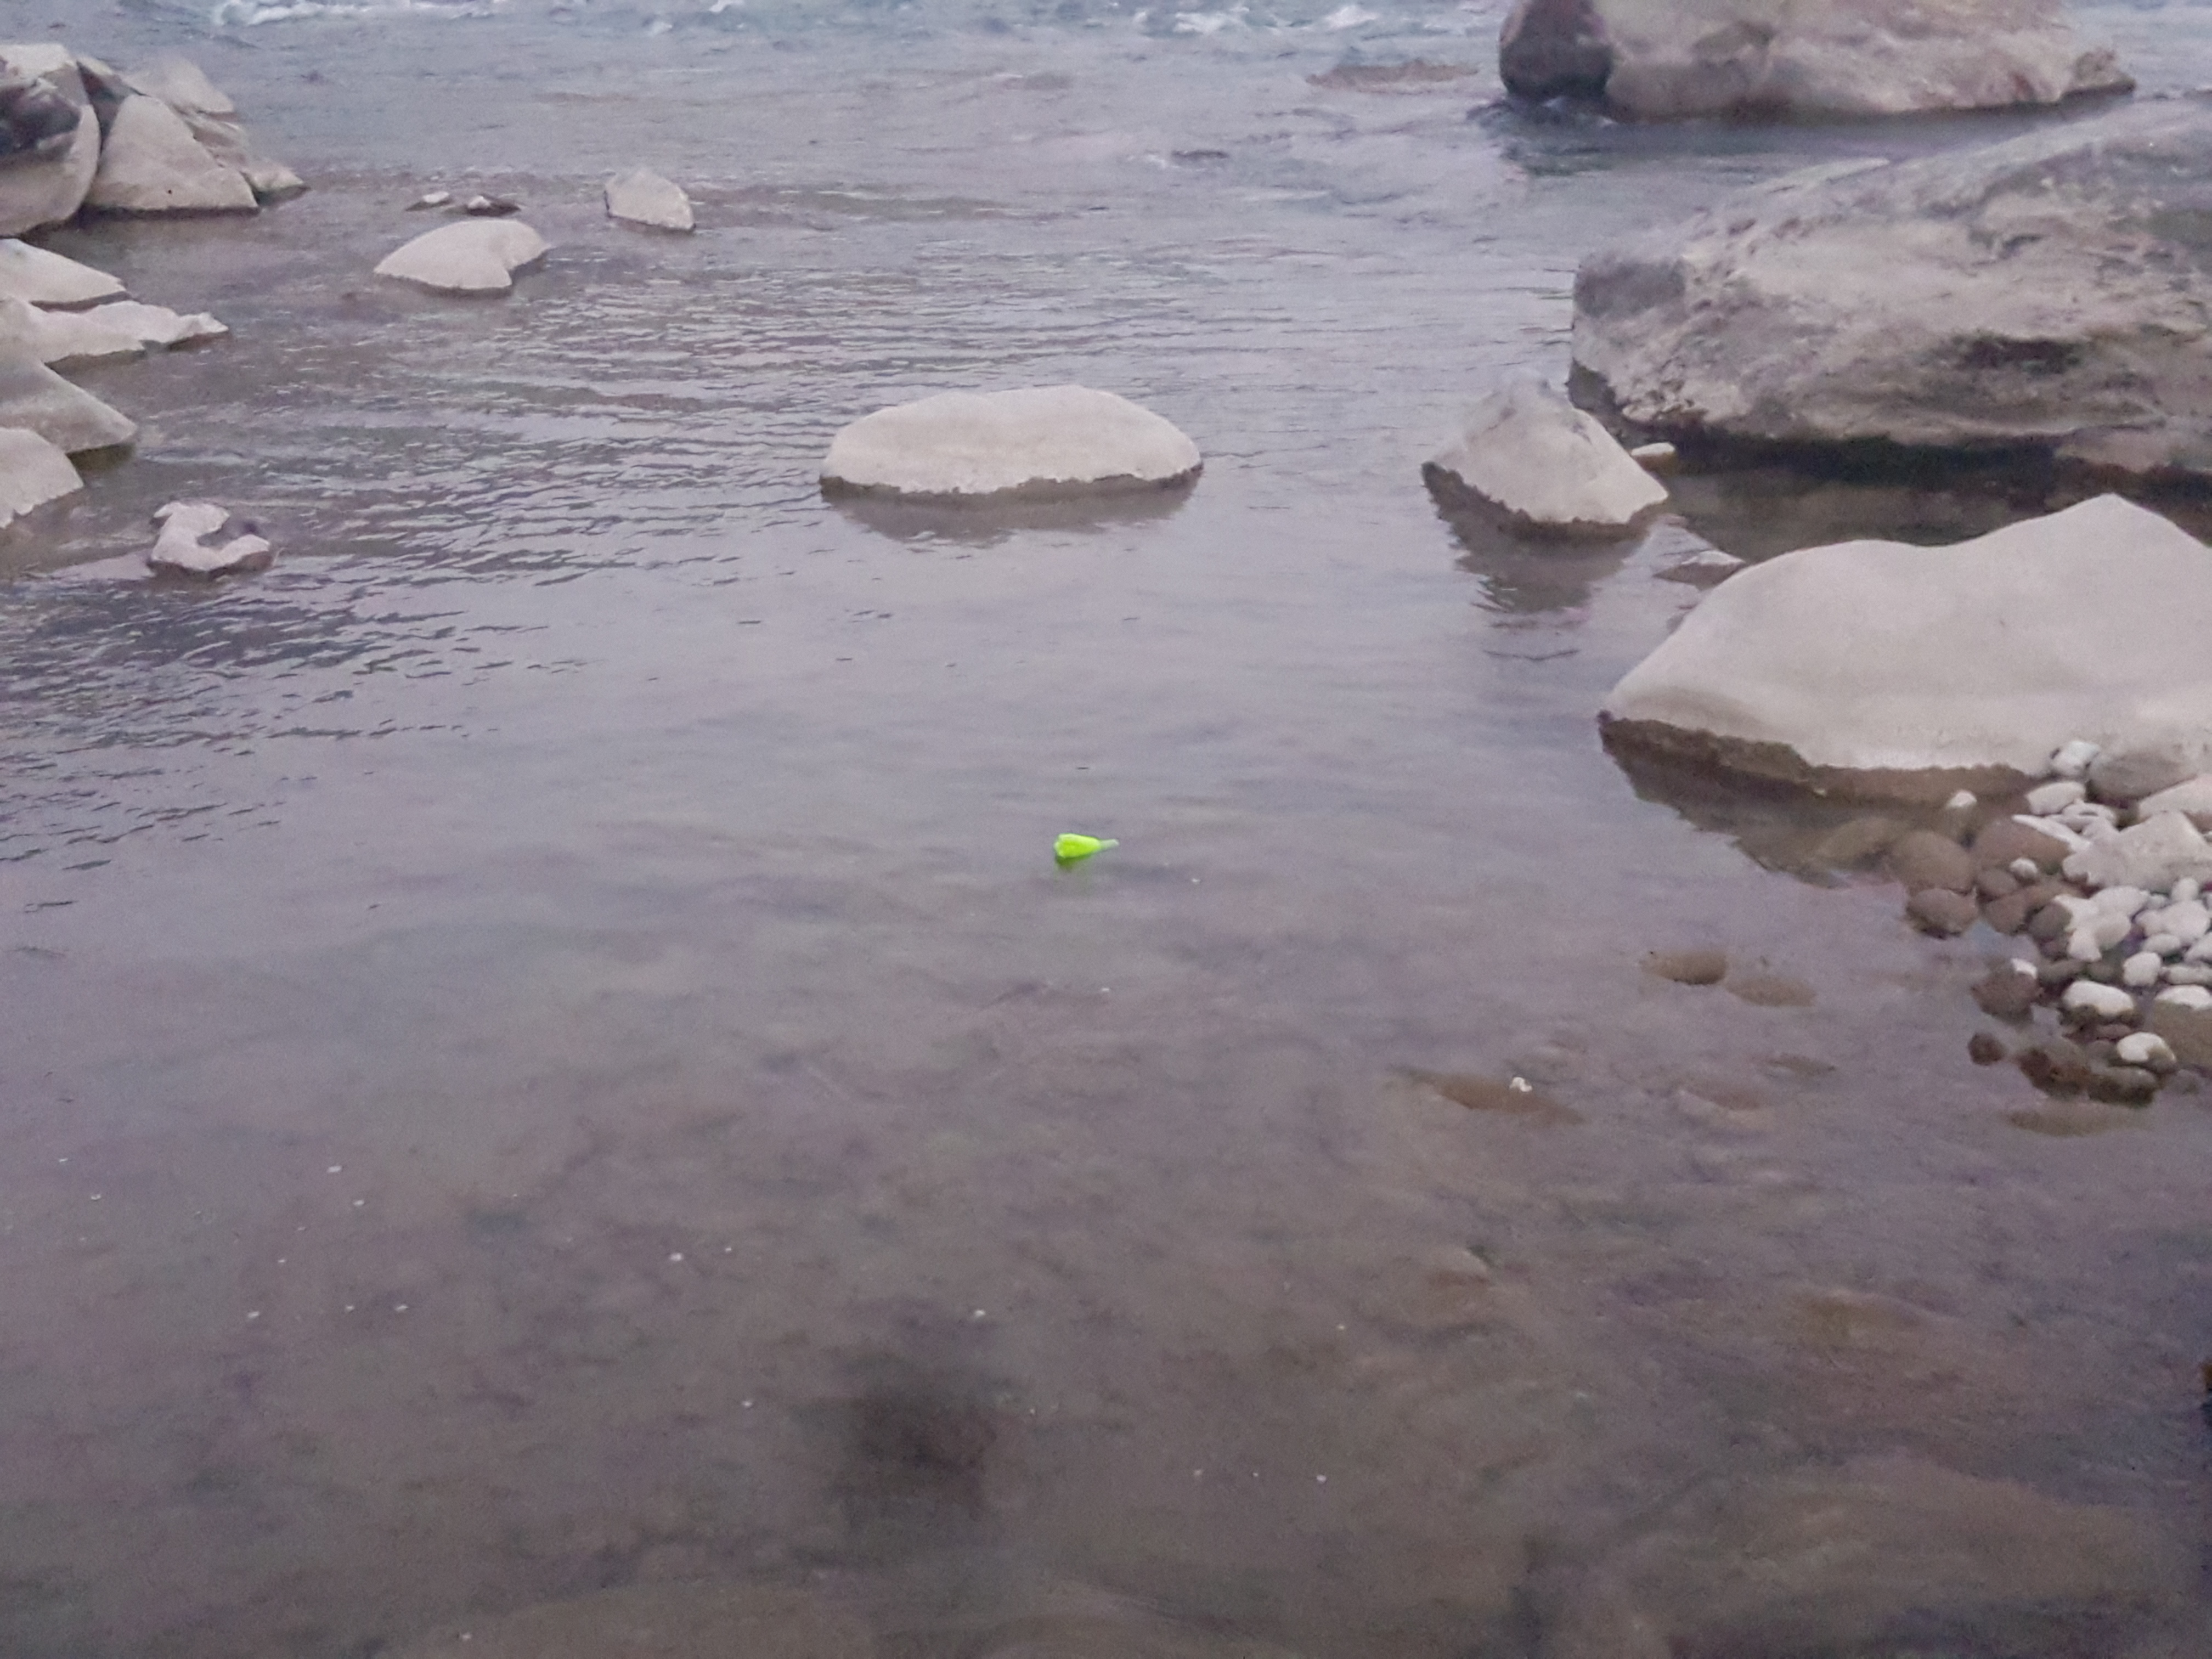Plastic Bottle: (1054, 833, 1120, 857)
